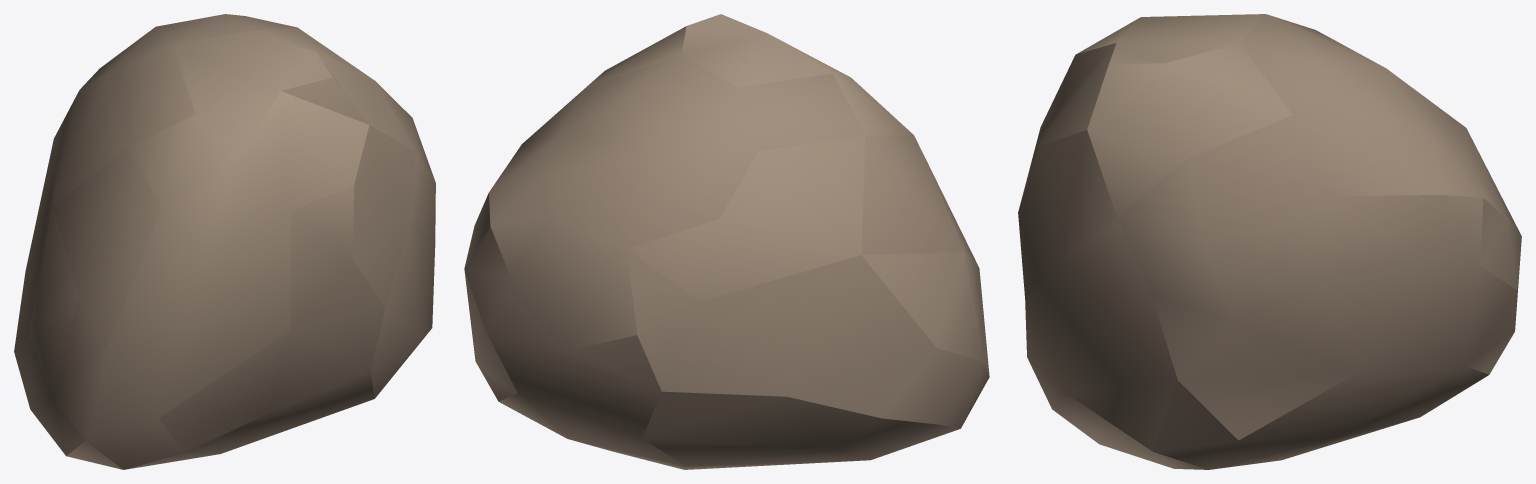
File: Rock_3_L_Color3.fbx
3 renders of one model, left to right at view 1: azimuth 30°, elevation 25°; view 2: azimuth 150°, elevation 25°; view 3: azimuth 270°, elevation 25°, orthographic. The views are drawn at different scales.
Visible parts, largest first — view 1: Rock_3_L_Color3; view 2: Rock_3_L_Color3; view 3: Rock_3_L_Color3.
Part boxes in pixels (bbox=[...]): Rock_3_L_Color3: bbox=[14, 14, 435, 469]; Rock_3_L_Color3: bbox=[464, 14, 989, 469]; Rock_3_L_Color3: bbox=[1018, 14, 1521, 469].
Size of the model in its own units: 2.62 by 2.27 by 2.56.
